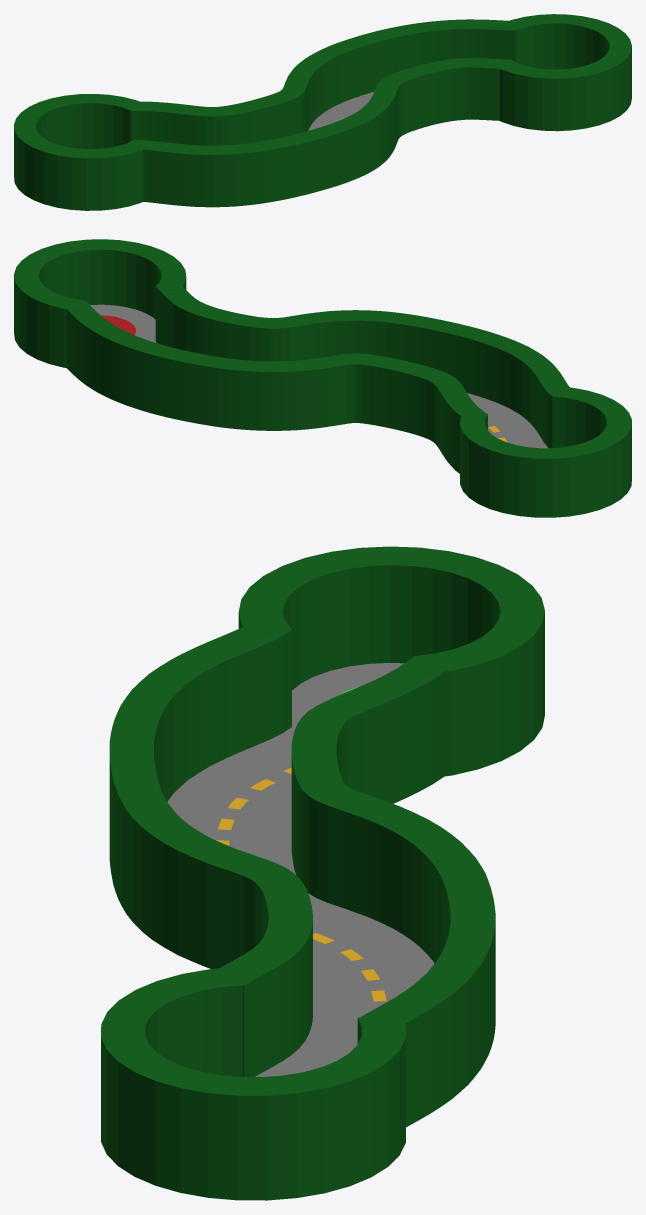
Rendered from CarTrack (1).fbx.
3 views of the same model, one above another, from view 1: azimuth 30°, elevation 25°; view 2: azimuth 150°, elevation 25°; view 3: azimuth 270°, elevation 25° (orthographic). The views are drawn at different scales.
Parts seen in each view (by area): view 1: Walls, Track; view 2: Walls, Track; view 3: Walls, Track.
Boxes of the visible parts, x1,y1,x2,y2 form: Walls: [14, 14, 631, 207]; Track: [14, 92, 631, 210]; Walls: [14, 239, 631, 513]; Track: [14, 304, 631, 517]; Walls: [101, 546, 544, 1193]; Track: [101, 663, 544, 1200].
Bounding box in the file's own units: 1489 × 132 × 509.
